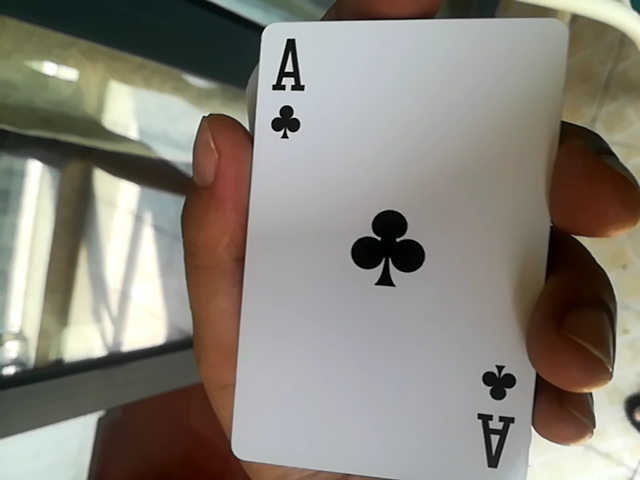mh a: (223, 26, 583, 477)
